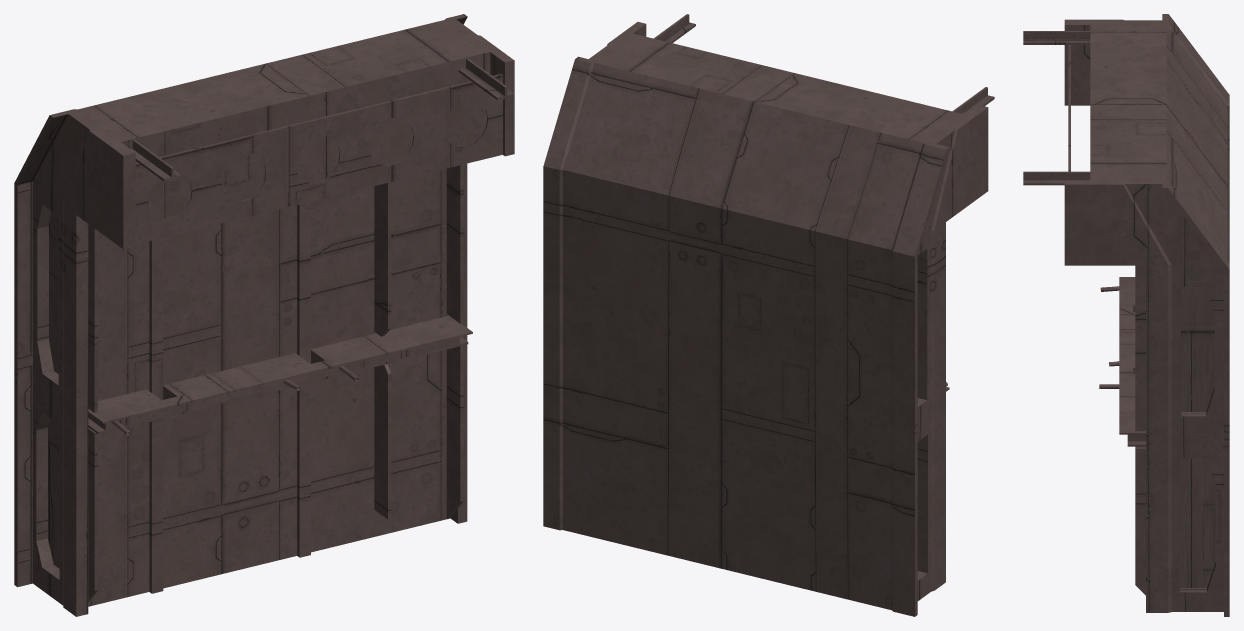
File: Bulkhead01.fbx
3 views of the same model, side by side, from view 1: azimuth 30°, elevation 25°; view 2: azimuth 150°, elevation 25°; view 3: azimuth 270°, elevation 25° (orthographic). The views are drawn at different scales.
Visible parts, largest first — view 1: SM_ENV_STRUCT_ScrapYard_Bulkhead_01.mo; view 2: SM_ENV_STRUCT_ScrapYard_Bulkhead_01.mo; view 3: SM_ENV_STRUCT_ScrapYard_Bulkhead_01.mo.
Part boxes in pixels (left/top/right/bottom): SM_ENV_STRUCT_ScrapYard_Bulkhead_01.mo: left=14, top=14, right=514, bottom=616; SM_ENV_STRUCT_ScrapYard_Bulkhead_01.mo: left=543, top=14, right=994, bottom=616; SM_ENV_STRUCT_ScrapYard_Bulkhead_01.mo: left=1023, top=14, right=1229, bottom=616.
Bounding box in the file's own units: 1064 × 1216 × 530.
3 materials, 3 textured.
